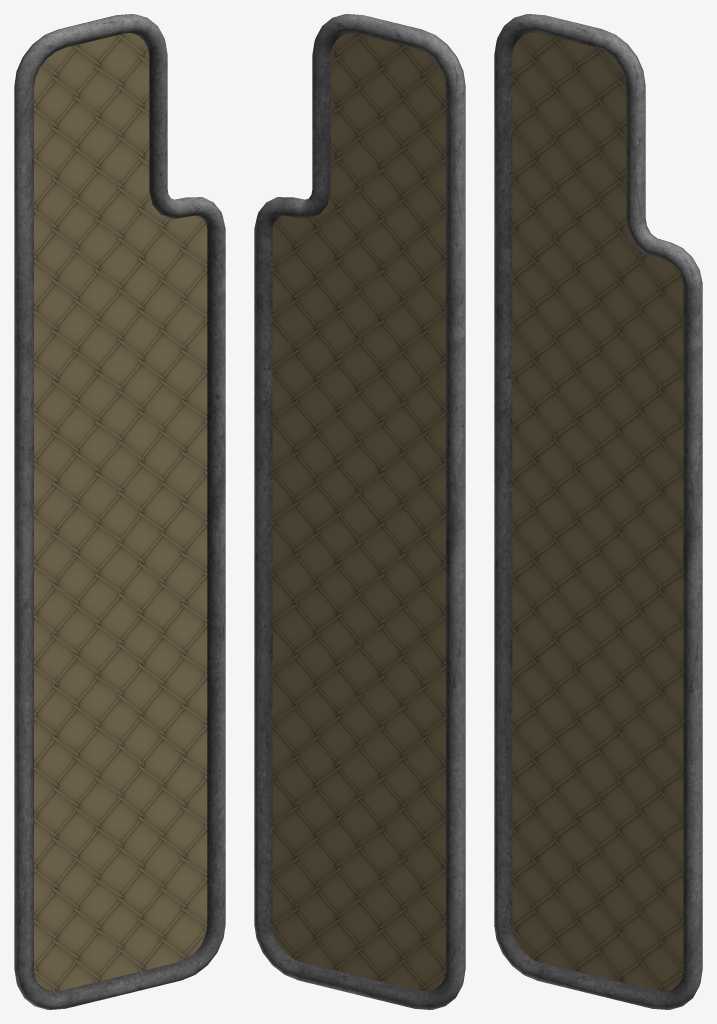
Rendered from fencing_round_wall_pplant_ground.dae.
3 views of the same model, side by side, from view 1: azimuth 30°, elevation 25°; view 2: azimuth 150°, elevation 25°; view 3: azimuth 330°, elevation 25° (orthographic).
Visible parts, largest first — view 1: polySurface13, polySurface9; view 2: polySurface13, polySurface9; view 3: polySurface13, polySurface9.
Part boxes in pixels (x1,y1,x2,y2): polySurface13: [34, 33, 207, 991]; polySurface9: [14, 14, 225, 1009]; polySurface13: [272, 33, 445, 991]; polySurface9: [254, 14, 465, 1009]; polySurface13: [512, 32, 683, 991]; polySurface9: [494, 14, 702, 1009].
Size of the model in its own units: 0.8815 by 3.94 by 0.0742.
